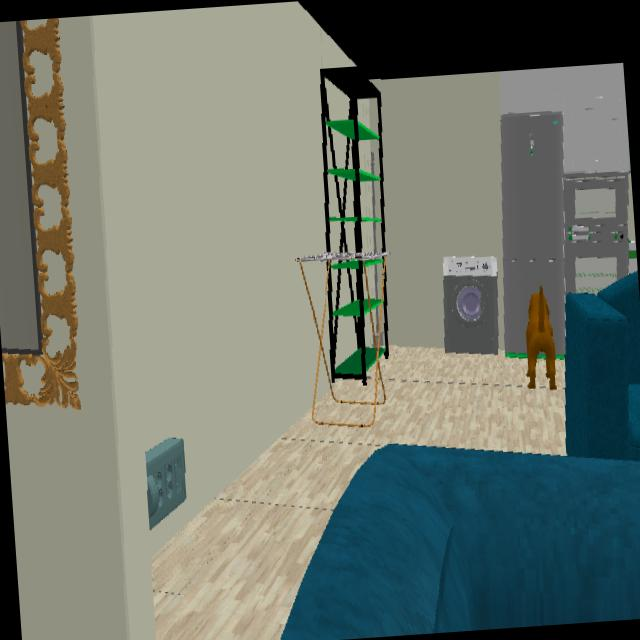cabinet: (499, 63, 628, 172)
fridge: (502, 112, 563, 354)
microwave: (564, 172, 627, 243)
oven: (566, 242, 628, 293)
shelf: (321, 68, 391, 382)
sofa: (281, 444, 640, 640), (564, 273, 640, 460)
